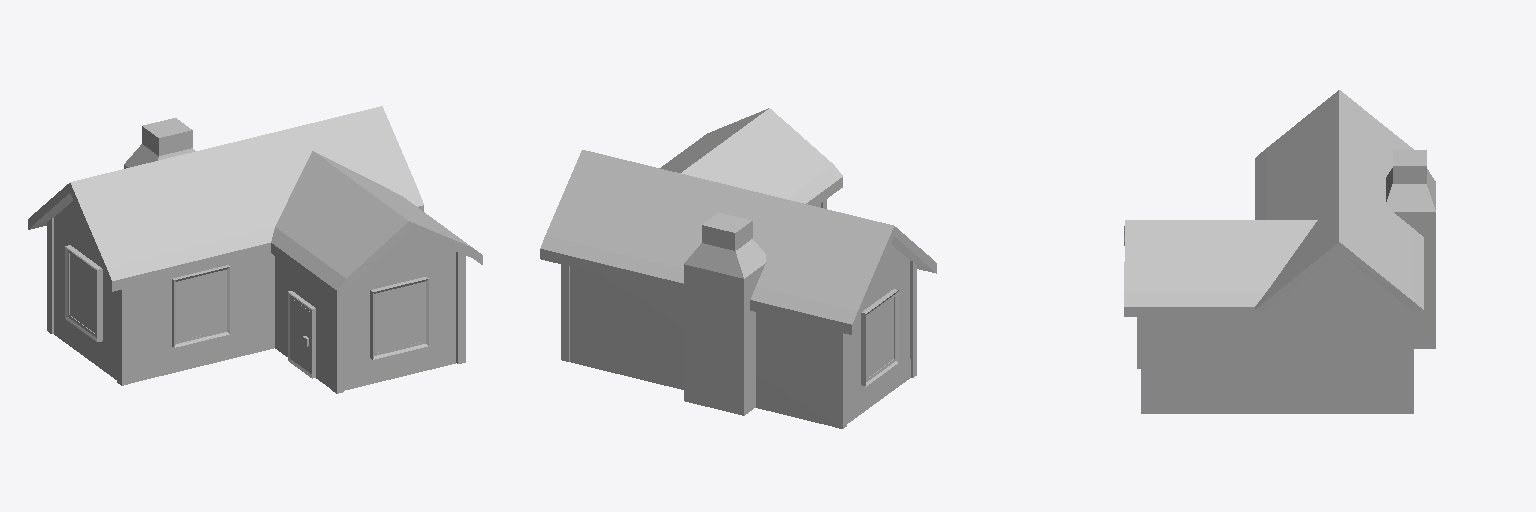
The model's file is house2.obj.
3 renders of one model, left to right at view 1: azimuth 30°, elevation 25°; view 2: azimuth 150°, elevation 25°; view 3: azimuth 270°, elevation 25°, orthographic.
Parts seen in each view (by area): view 1: wall_Cube.001; view 2: wall_Cube.001; view 3: wall_Cube.001.
Boxes of the visible parts, box(x1,y1,x2,y2) form: wall_Cube.001: box(28, 106, 482, 393); wall_Cube.001: box(540, 108, 936, 428); wall_Cube.001: box(1124, 90, 1435, 413).
Size of the model in its own units: 11.11 by 6.13 by 9.61.